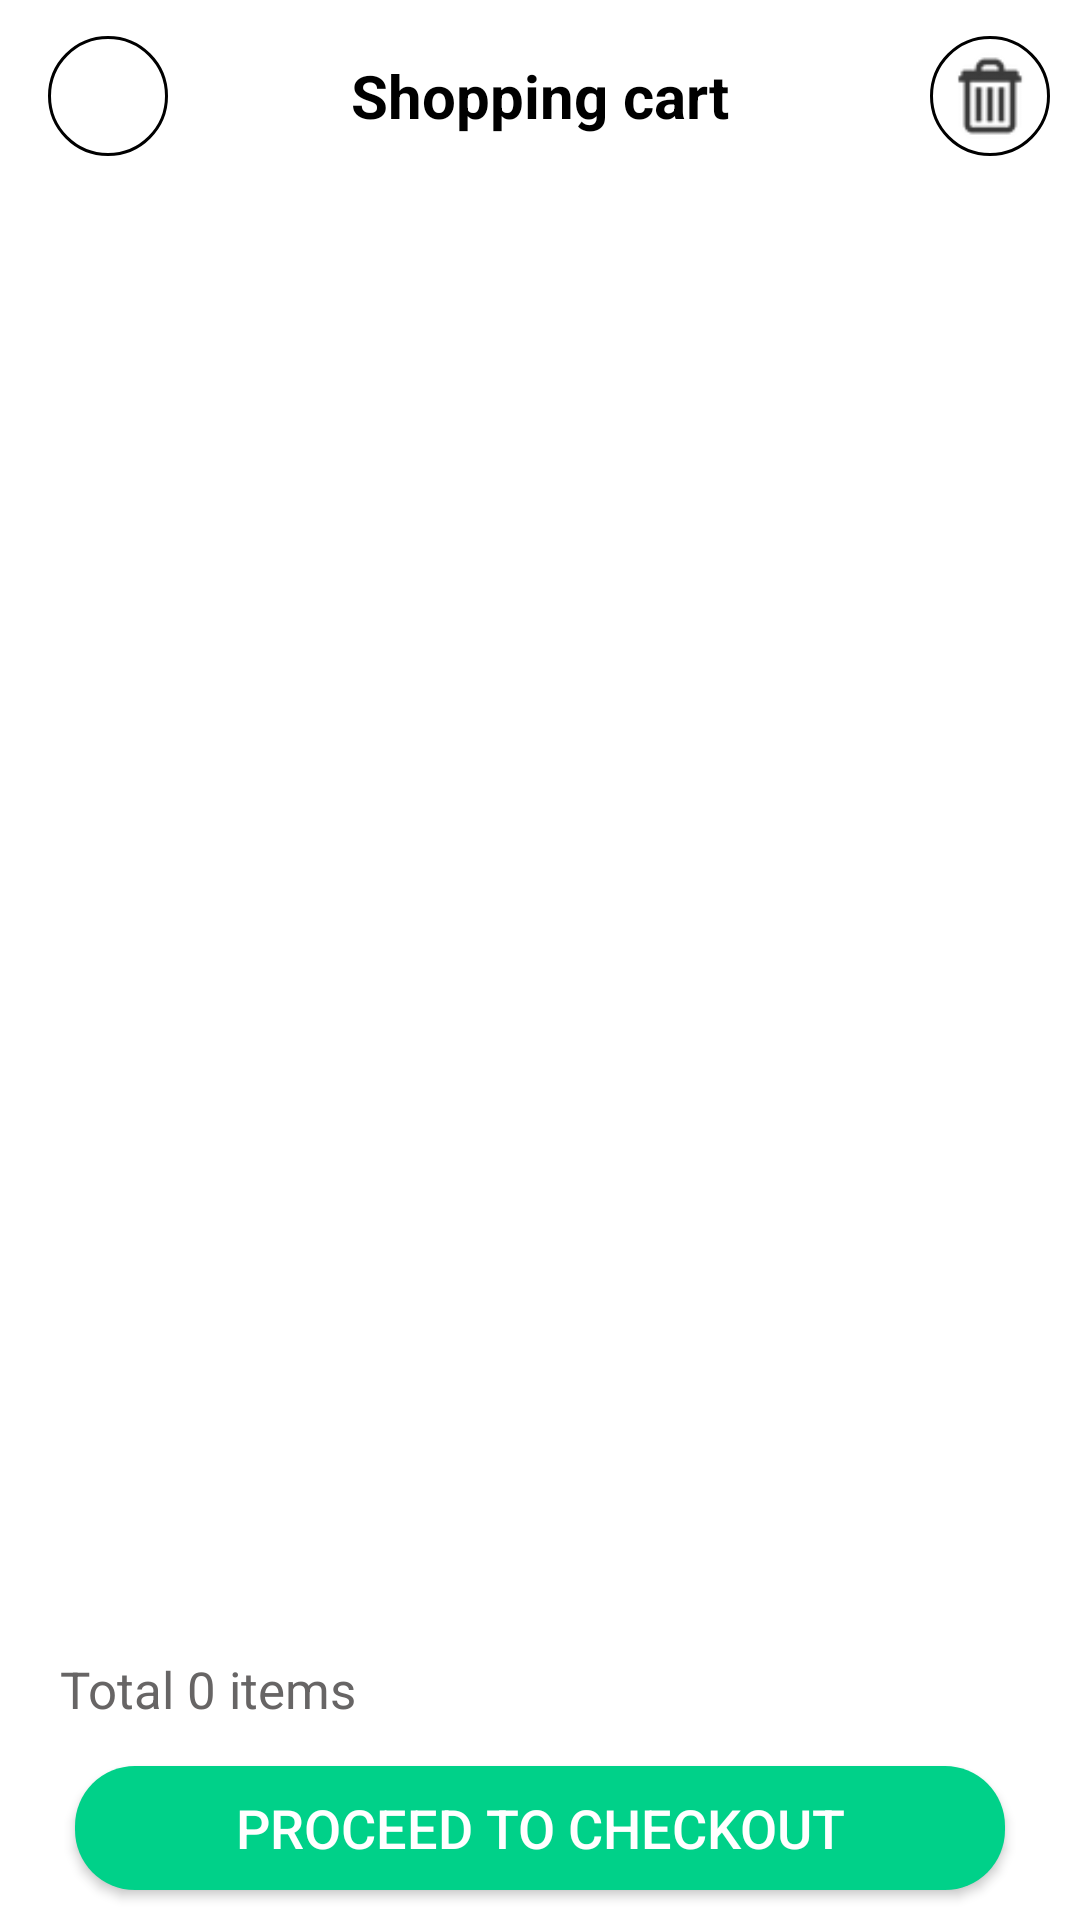

Where to tap for icons on this 1080px×1920px app screen, as point (x, y):
delete: point (990, 96)
